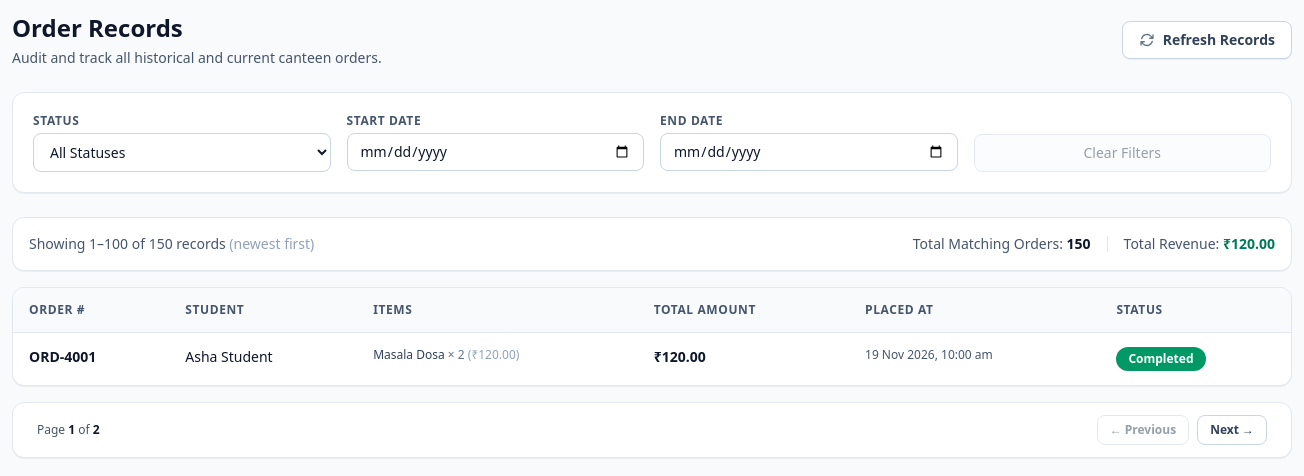
Test: Increment 4: records, filters, and retry UI › paginates the records list
expect the navigation bar named "Records pagination" shows "Page 1 of 2": met, box [12,402,1292,458]
Click the button "Next →" at [1232, 430], box [1197,415,1267,445]
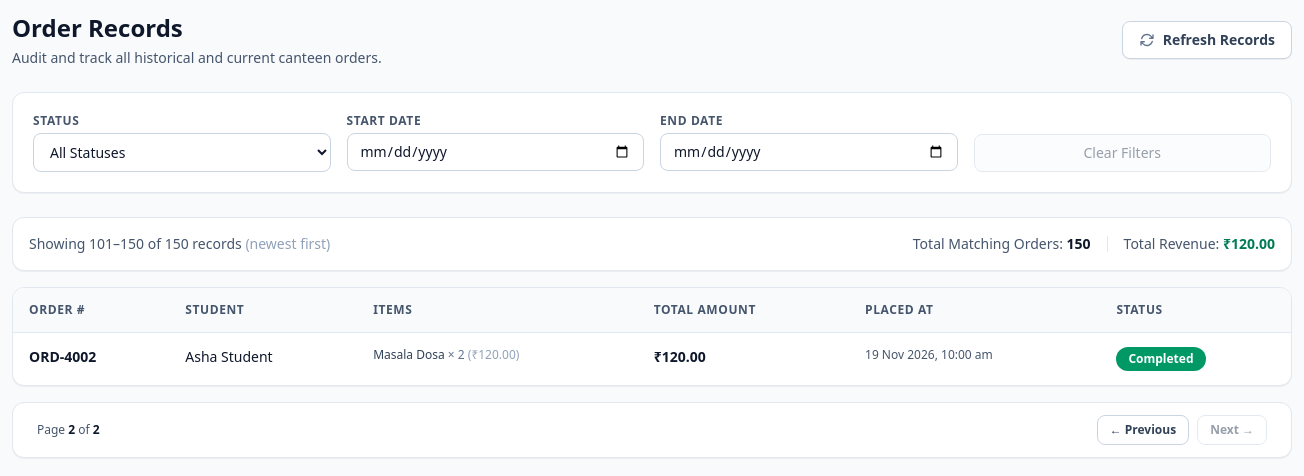
expect the row "ORD-4002" is shown: met, box [13,332,1291,385]
